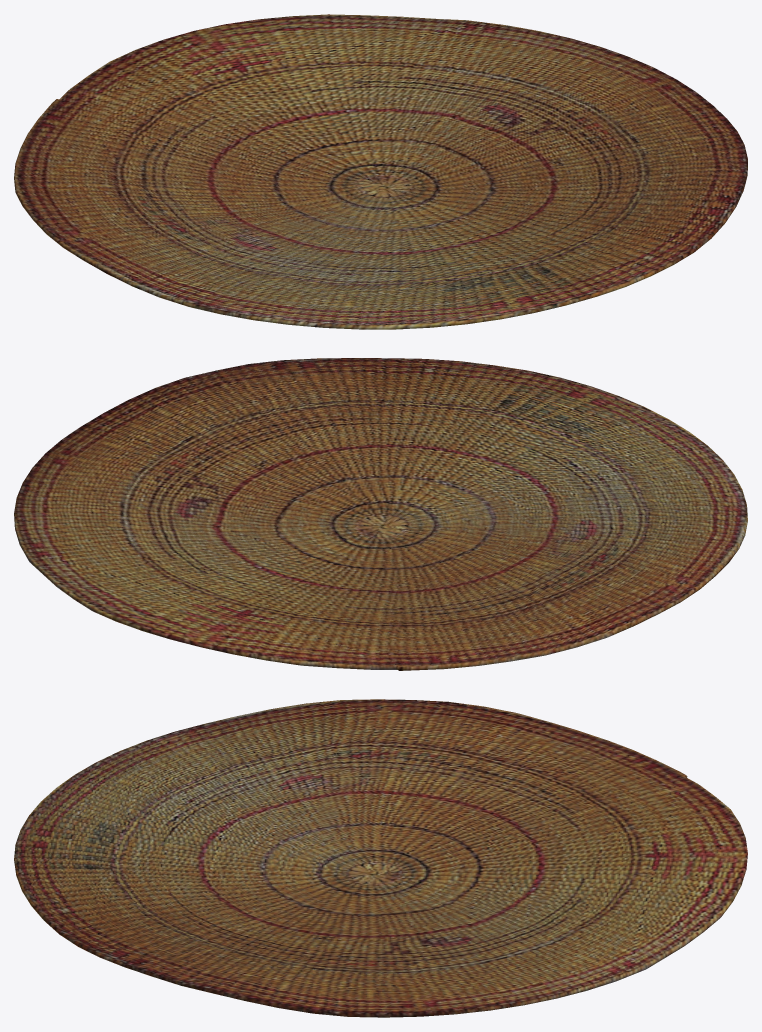
The model's file is unhyun__mat.glb.
3 views of the same model, one above another, from view 1: azimuth 30°, elevation 25°; view 2: azimuth 150°, elevation 25°; view 3: azimuth 270°, elevation 25° (orthographic).
Visible parts, largest first — view 1: SM_Mat370_M_Mat370_0; view 2: SM_Mat370_M_Mat370_0; view 3: SM_Mat370_M_Mat370_0.
Part boxes in pixels (<box>): SM_Mat370_M_Mat370_0: <box>14,14,747,329</box>; SM_Mat370_M_Mat370_0: <box>14,358,747,670</box>; SM_Mat370_M_Mat370_0: <box>14,699,747,1017</box>.
Size of the model in its own units: 0.4715 by 0.0178 by 0.4715.
1 material, 1 textured.
